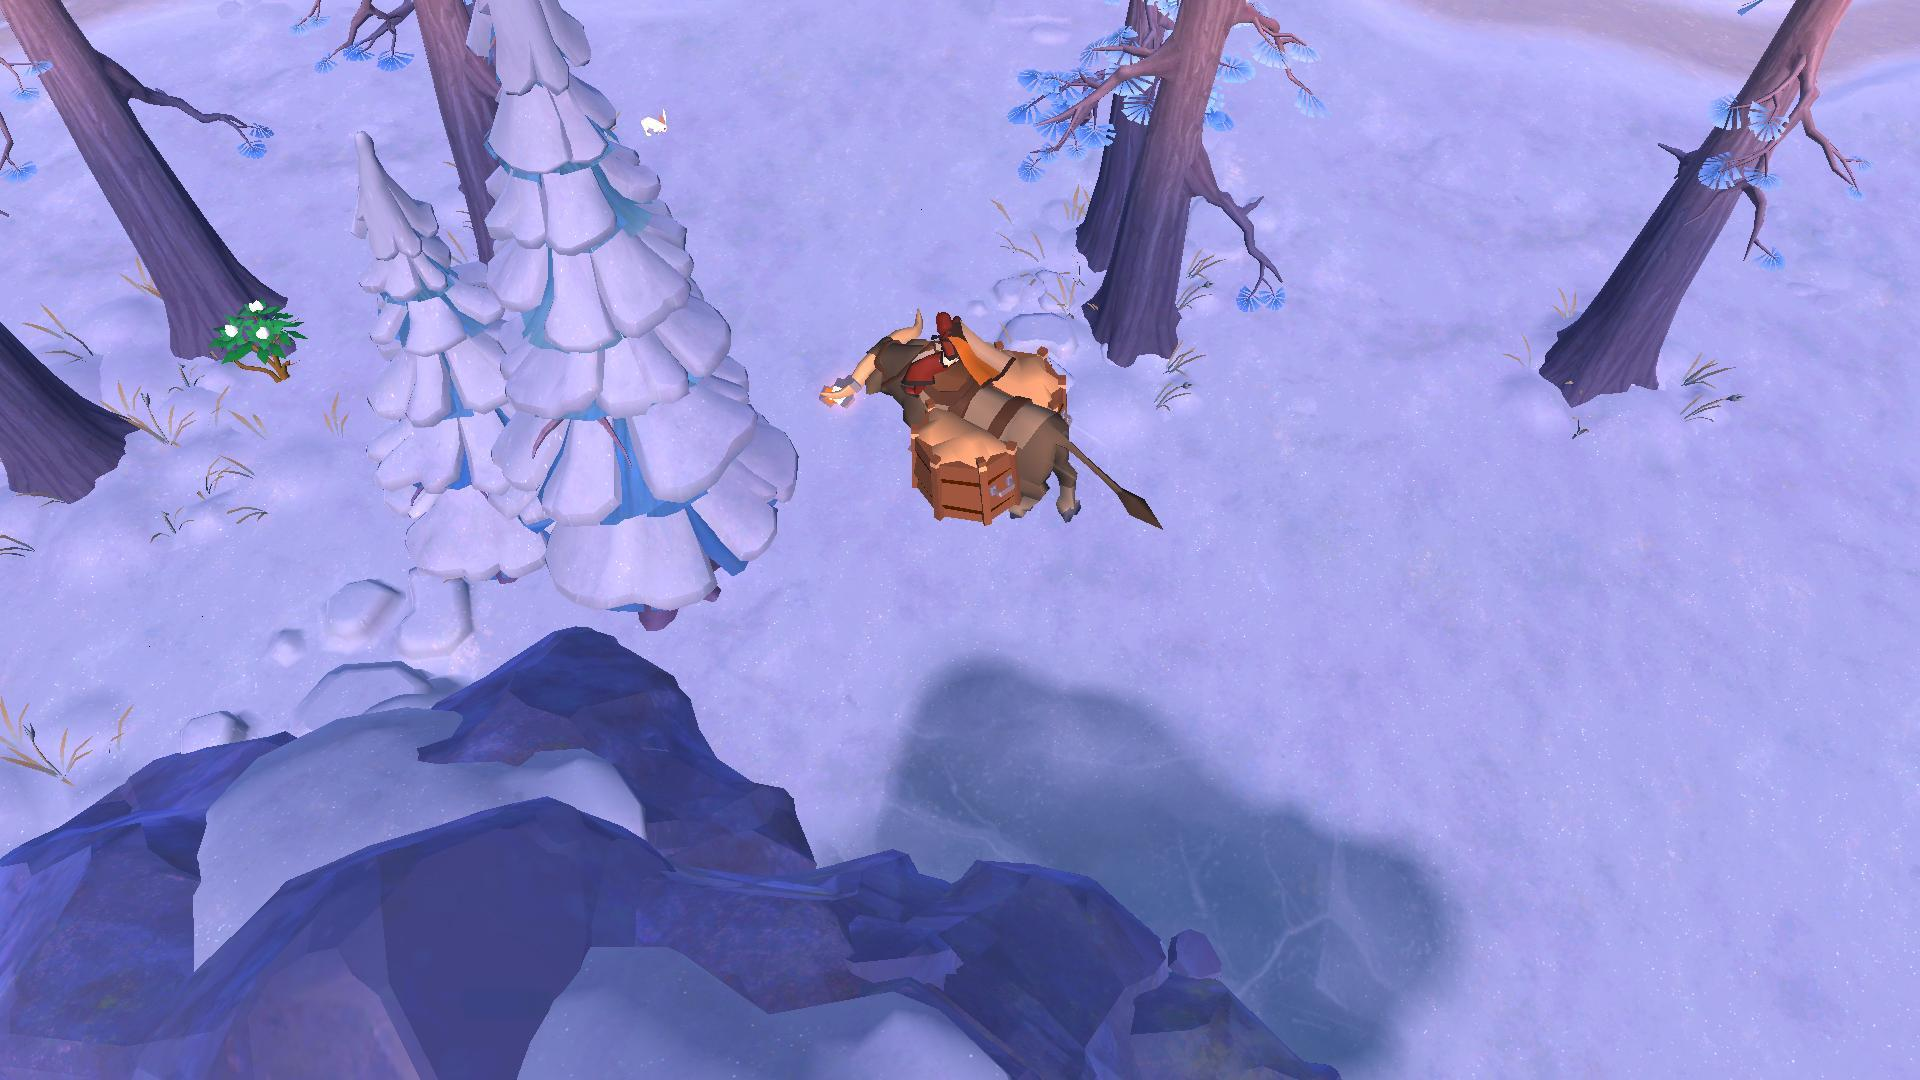fiber_t3: (207, 293, 311, 392)
